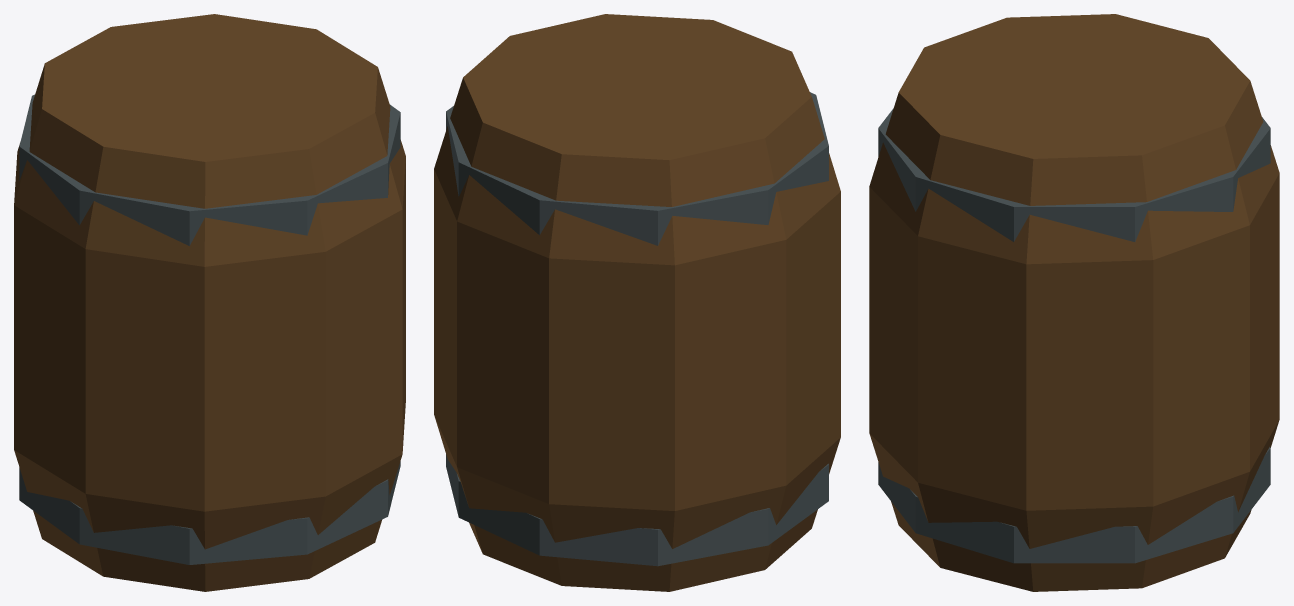
The model's file is SM_ENV_Village_03_Barrel.glb.
3 views of the same model, side by side, from view 1: azimuth 30°, elevation 25°; view 2: azimuth 150°, elevation 25°; view 3: azimuth 270°, elevation 25° (orthographic).
Parts seen in each view (by area): view 1: SM_ENV_Village_03_Barrel; view 2: SM_ENV_Village_03_Barrel; view 3: SM_ENV_Village_03_Barrel.
Part boxes in pixels (x1=…): SM_ENV_Village_03_Barrel: x1=14, y1=14, x2=405, y2=591; SM_ENV_Village_03_Barrel: x1=434, y1=14, x2=840, y2=591; SM_ENV_Village_03_Barrel: x1=869, y1=14, x2=1279, y2=591.
Bounding box in the file's own units: 0.5445 × 0.65 × 0.5583.
